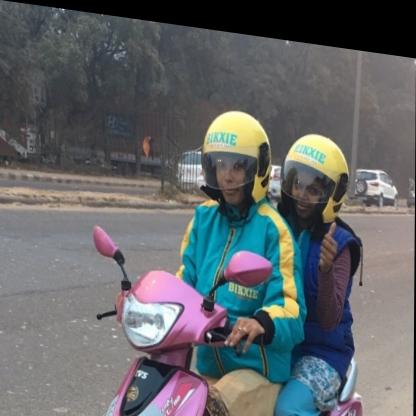With Helmet: (197, 93, 274, 205)
